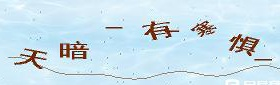chinese: (229, 31, 262, 62), (58, 38, 92, 65), (142, 16, 176, 43), (17, 46, 43, 70), (193, 20, 216, 40)
